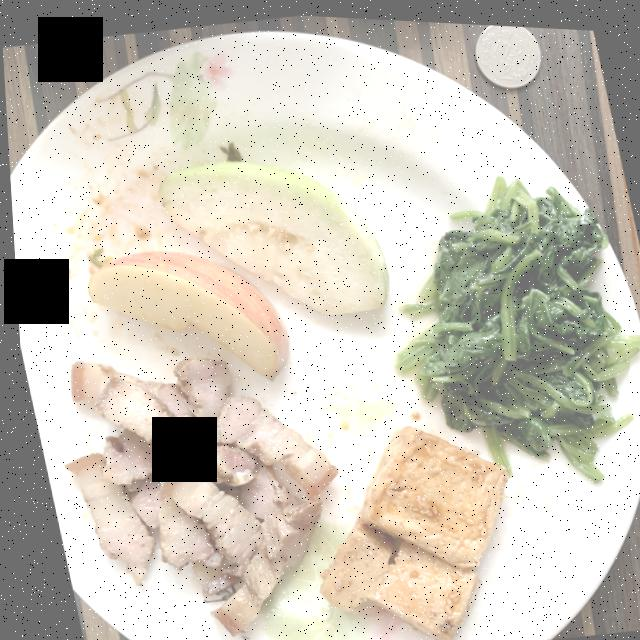apple -sliced-: (84, 248, 285, 376)
coin: (475, 20, 541, 82)
creamy tofu: (313, 421, 502, 639)
grilled pork: (50, 402, 317, 640)
guava -sliced-: (156, 158, 385, 311)
mustard greens: (392, 170, 640, 477)
